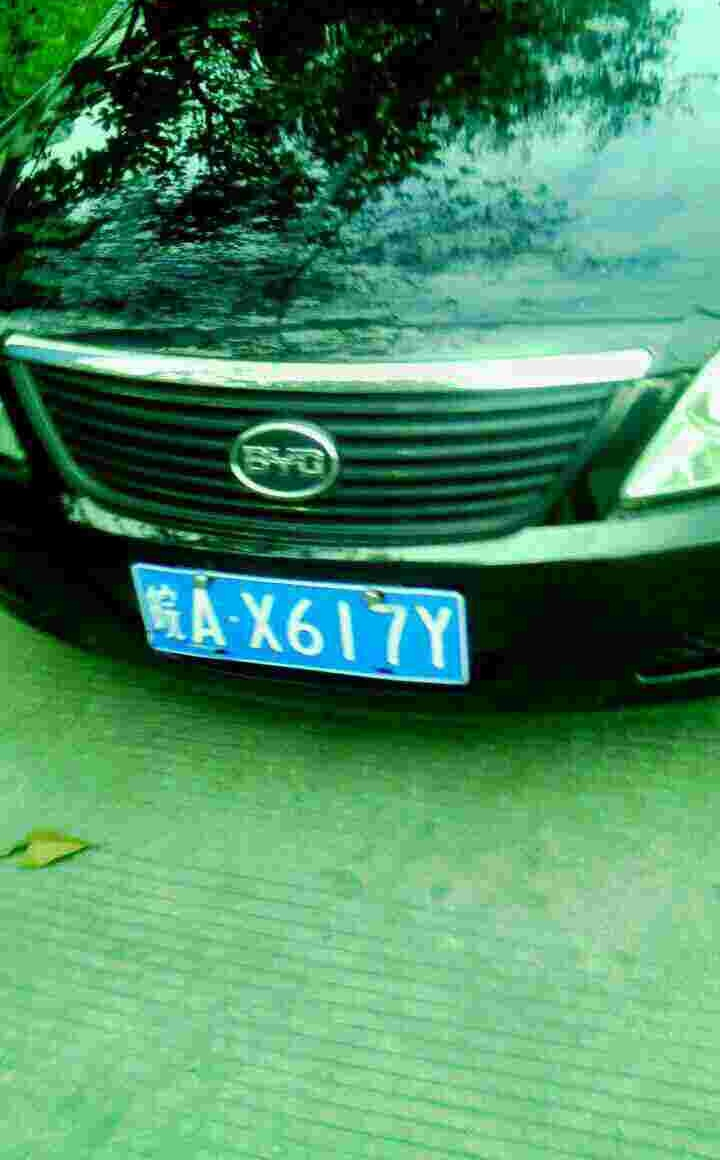license_plate: (129, 560, 478, 690)
